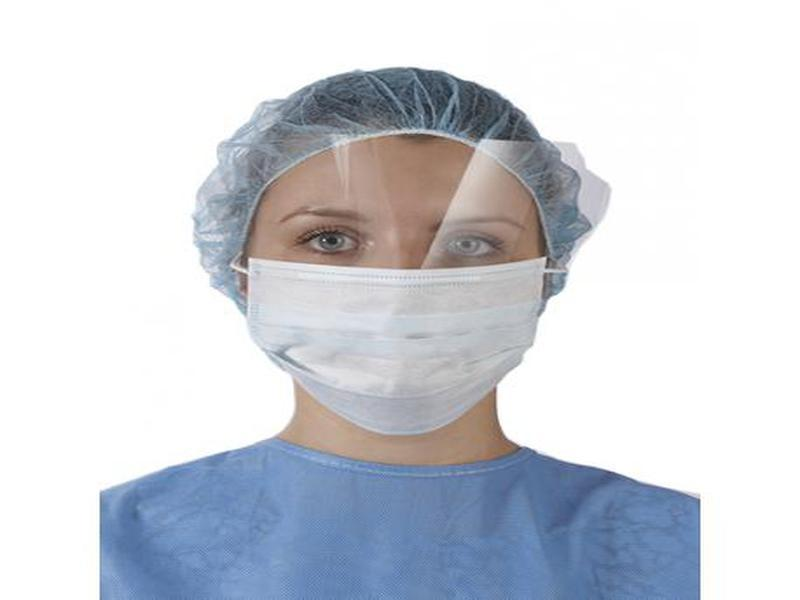with_mask: (246, 146, 555, 437)
